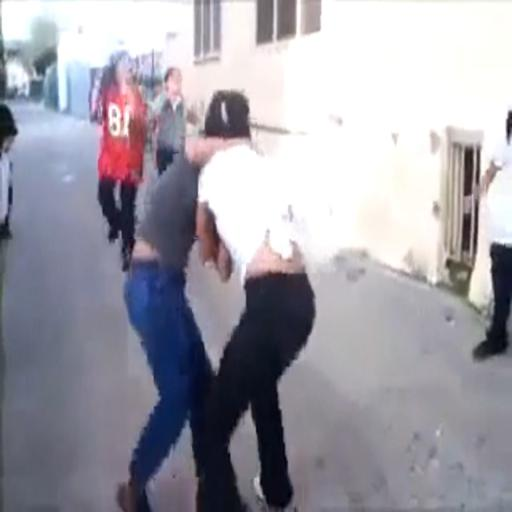violencia: (105, 56, 329, 512)
